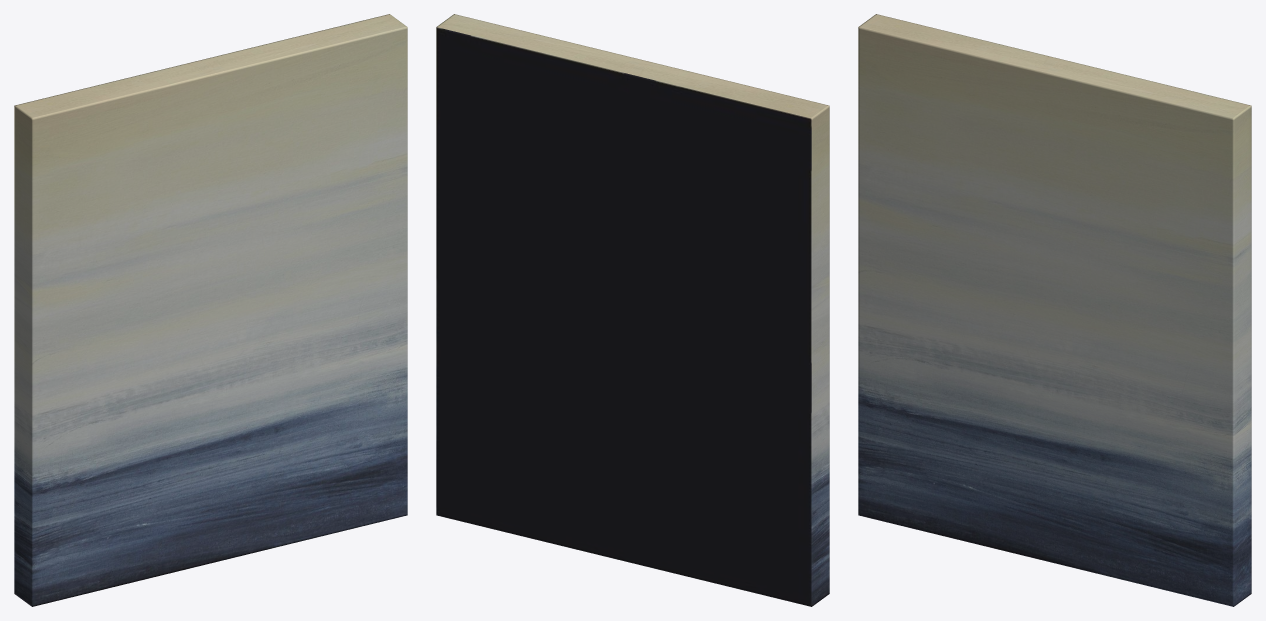
3 renders of one model, left to right at view 1: azimuth 30°, elevation 25°; view 2: azimuth 150°, elevation 25°; view 3: azimuth 330°, elevation 25°, orthographic.
Parts seen in each view (by area): view 1: RootNode; view 2: RootNode; view 3: RootNode.
Part boxes in pixels (box(x1,y1,x2,y2)): RootNode: box(14, 14, 407, 606); RootNode: box(436, 14, 829, 606); RootNode: box(858, 14, 1251, 606).
Size of the model in its own units: 0.489 by 0.6078 by 0.0403.
1 material, 1 textured.
